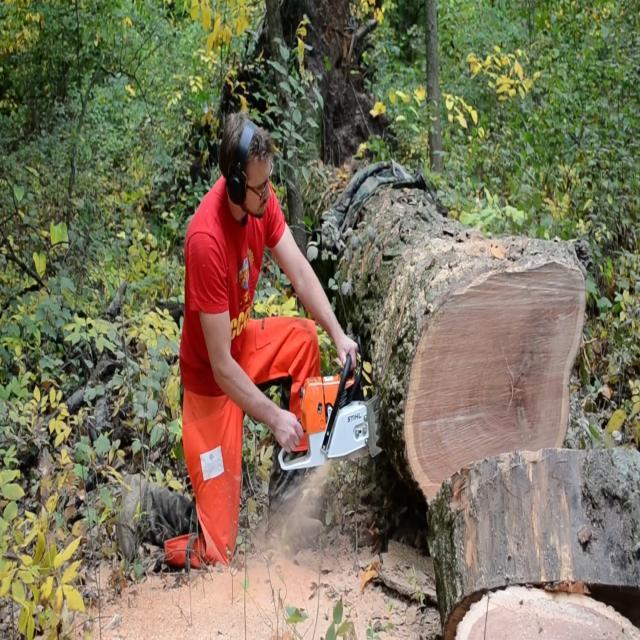Chainsaw: (272, 344, 406, 477)
